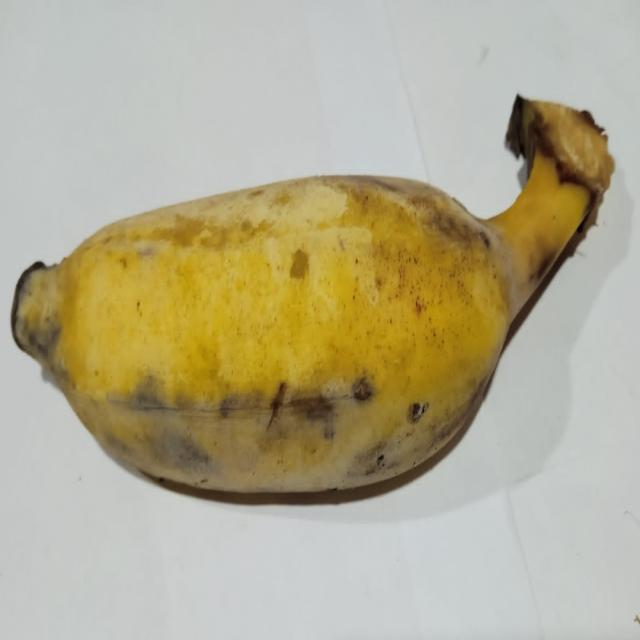banana: (12, 97, 613, 491)
